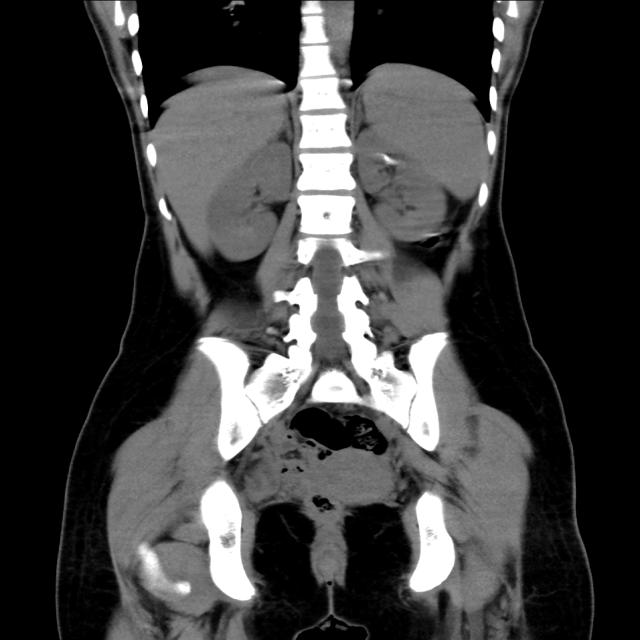kidneystone: (379, 152, 398, 165)
